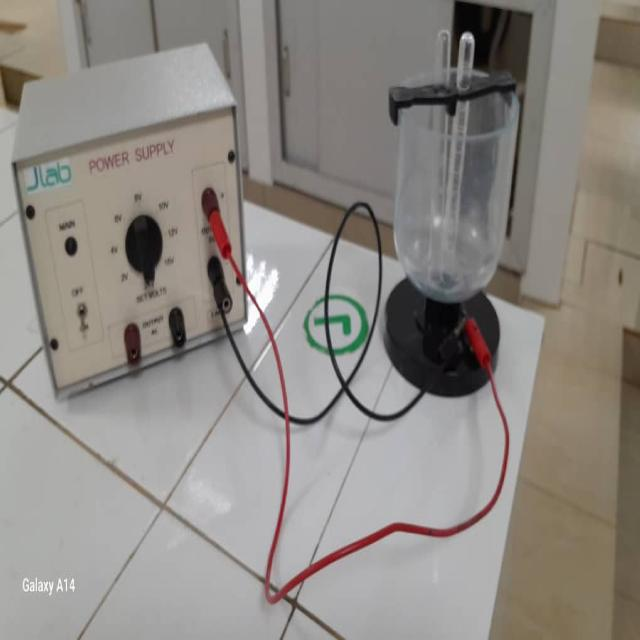Electrolyzer: (381, 34, 526, 393)
